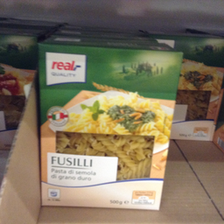pasta: (38, 36, 183, 211)
